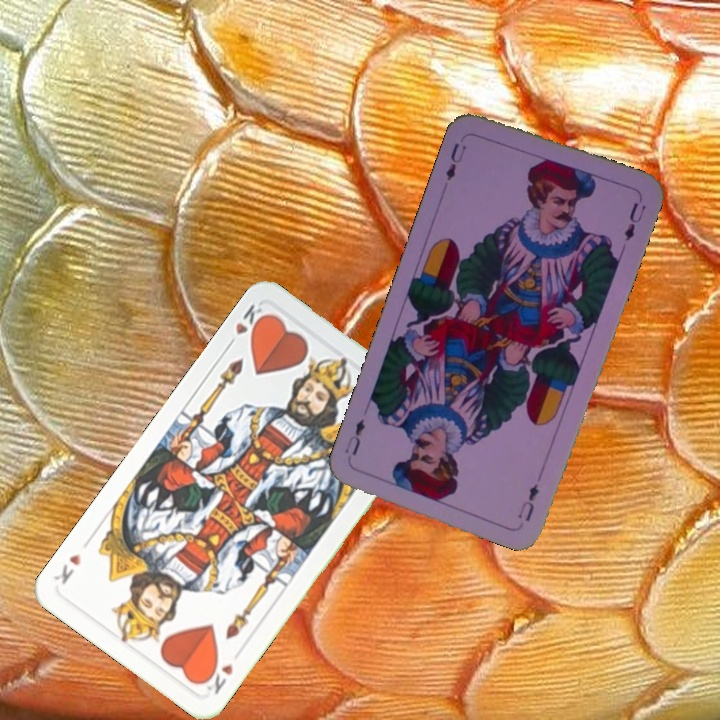EU: (513, 480, 542, 524), (441, 139, 469, 183)
HK: (222, 299, 270, 351), (203, 660, 236, 697)
